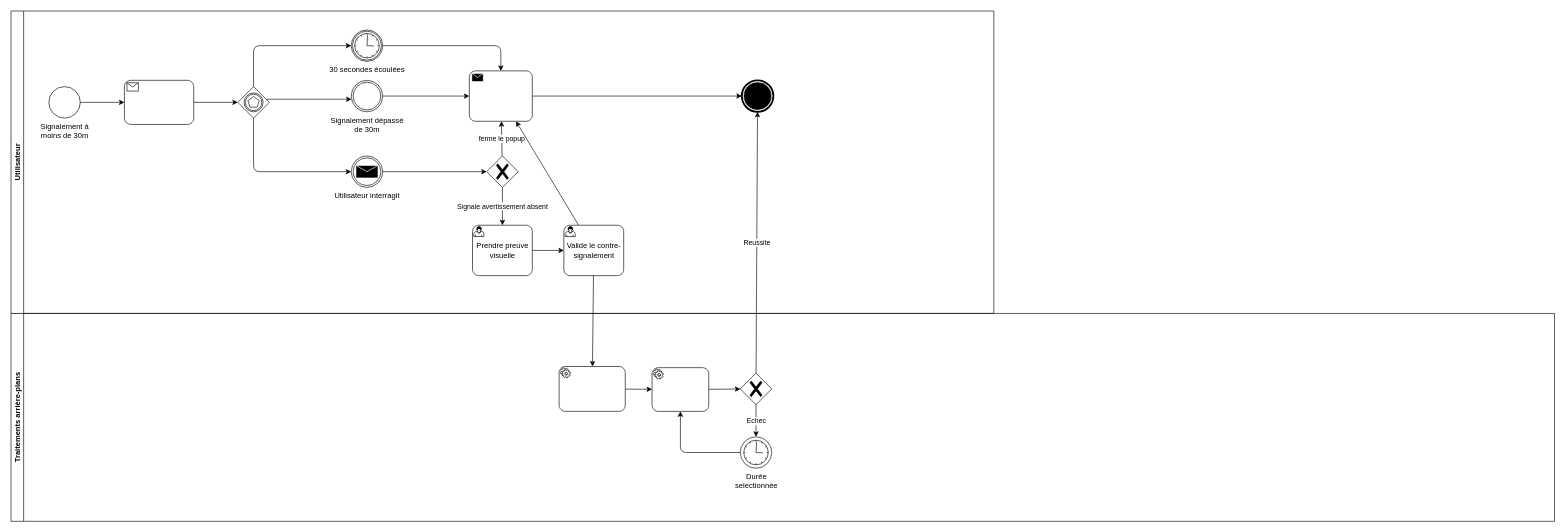
Some shapes in this 1566 by 532 pixel diagram are drawn without their labels. Each missing label, with the centre of its shape:
Affichage du signalement: [159,102]
Disparition de la pop-up: [500,95]
Sauvegarder les données en local: [591,388]
Tenter d'envoyer les données: [680,389]
